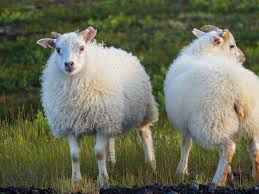koyun: (36, 31, 156, 183), (169, 24, 257, 189)
